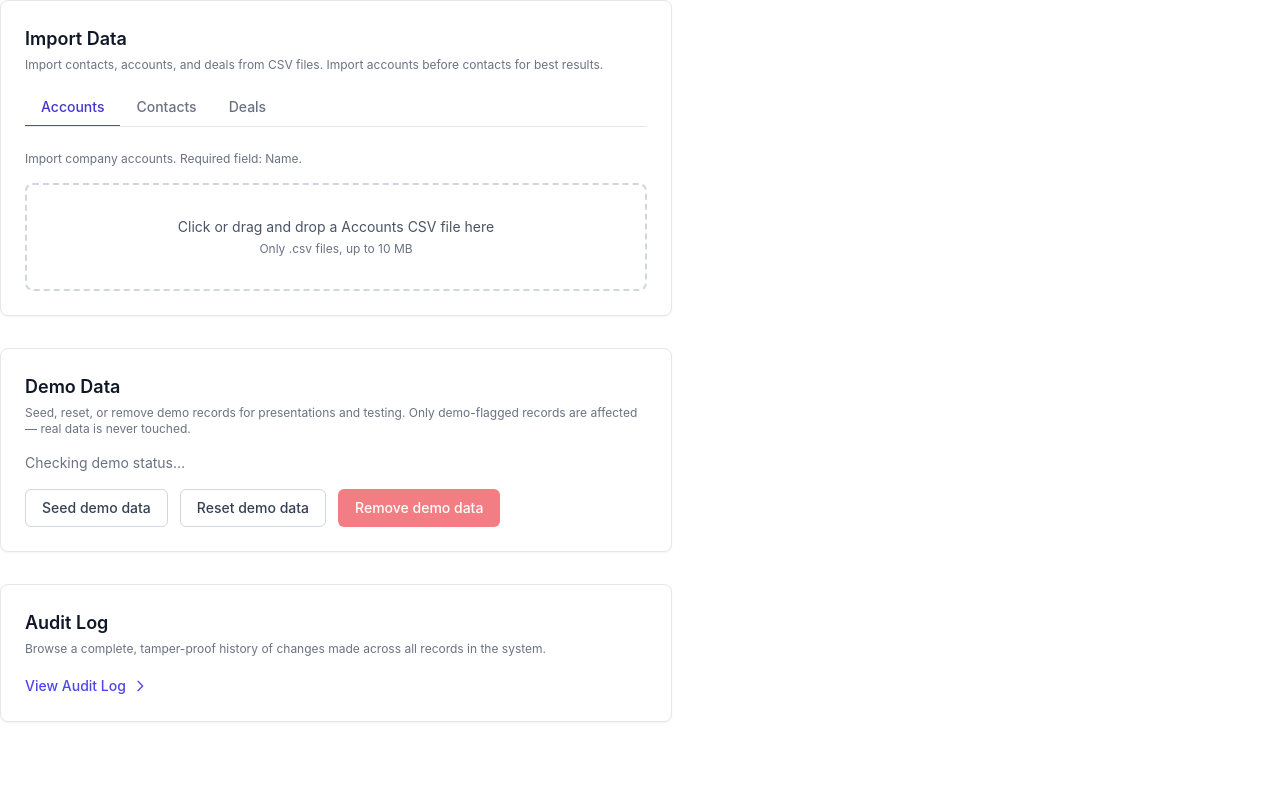
Test: DataSettings — demo data › opens confirm dialog when Reset is clicked
Click the button with test id "demo-reset-button": (253, 508) [180,489,326,527]
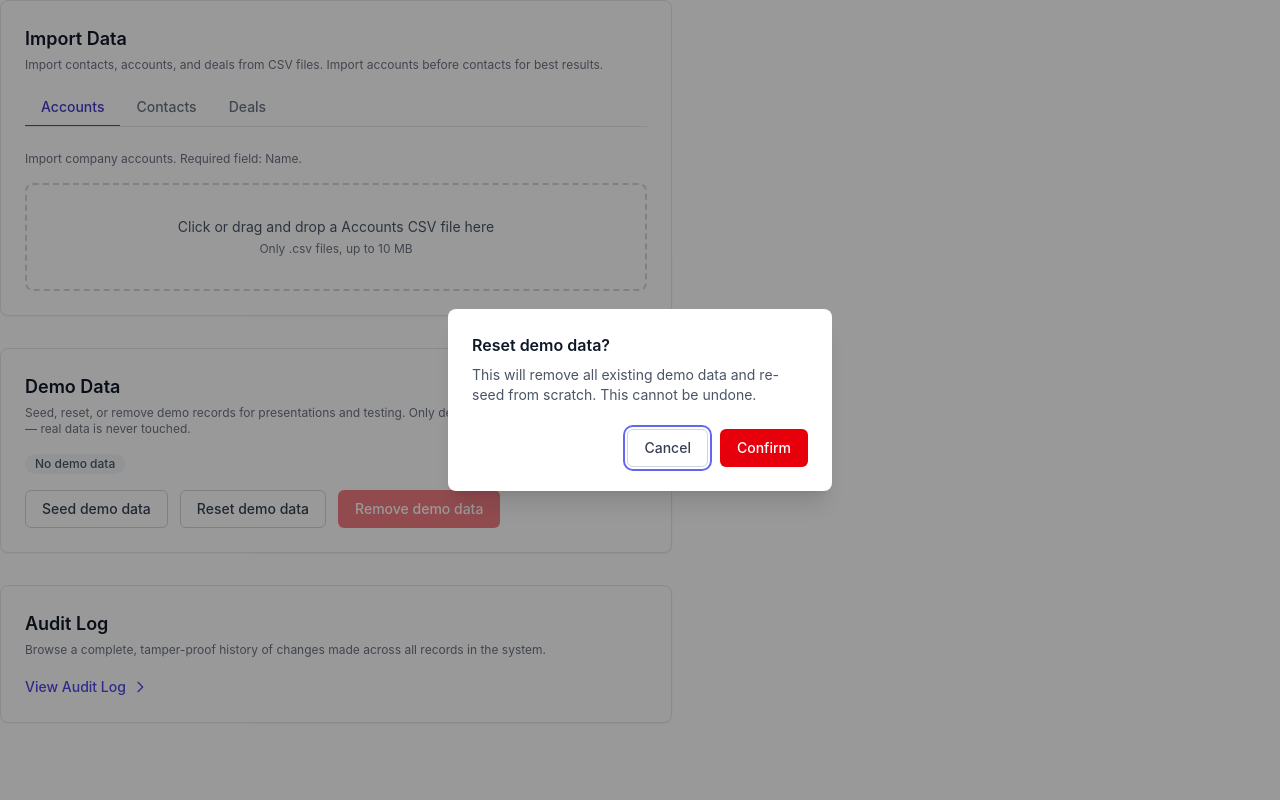
Now the dialog with test id "demo-confirm-dialog" is shown
